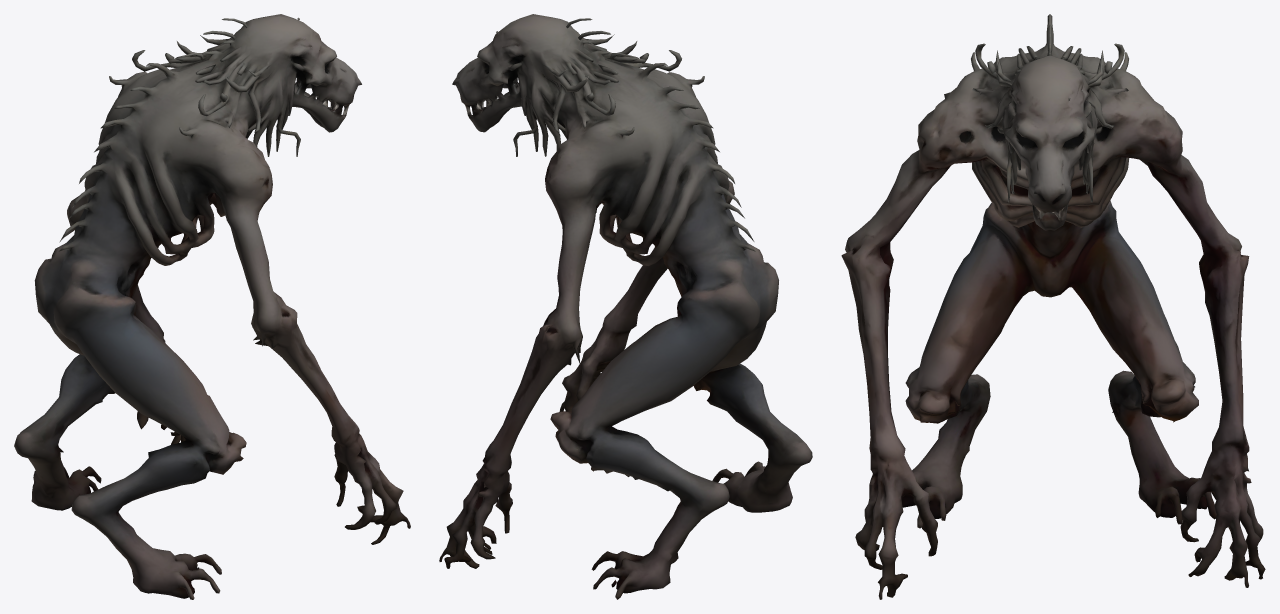
3 views of the same model, side by side, from view 1: azimuth 30°, elevation 25°; view 2: azimuth 150°, elevation 25°; view 3: azimuth 270°, elevation 25° (orthographic). The views are drawn at different scales.
Visible parts, largest first — view 1: tripo_node_ce97d3c6-96f8-4ab3-adaf-260110dec1f3; view 2: tripo_node_ce97d3c6-96f8-4ab3-adaf-260110dec1f3; view 3: tripo_node_ce97d3c6-96f8-4ab3-adaf-260110dec1f3.
Part boxes in pixels (<box>): tripo_node_ce97d3c6-96f8-4ab3-adaf-260110dec1f3: <box>14,14,410,599</box>; tripo_node_ce97d3c6-96f8-4ab3-adaf-260110dec1f3: <box>439,14,812,599</box>; tripo_node_ce97d3c6-96f8-4ab3-adaf-260110dec1f3: <box>841,14,1265,599</box>.
Size of the model in its own units: 0.6693 by 1 by 0.7123.
Materials: 1 (1 with a texture image).
